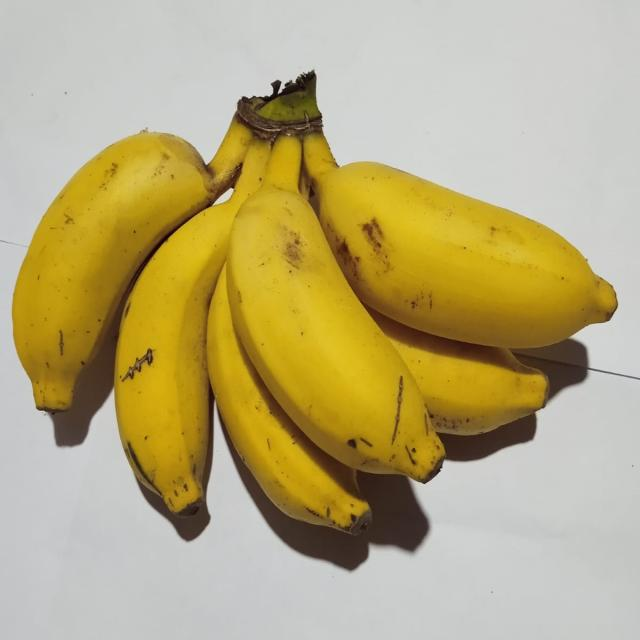banana: (227, 137, 444, 482), (13, 119, 251, 412), (304, 133, 617, 347), (115, 140, 270, 515), (207, 268, 371, 534), (369, 309, 548, 435)
